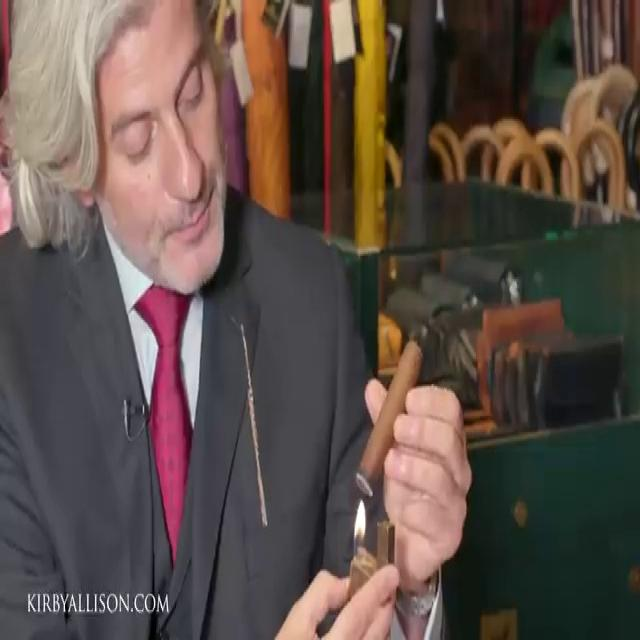Smooking: (351, 314, 448, 516)
